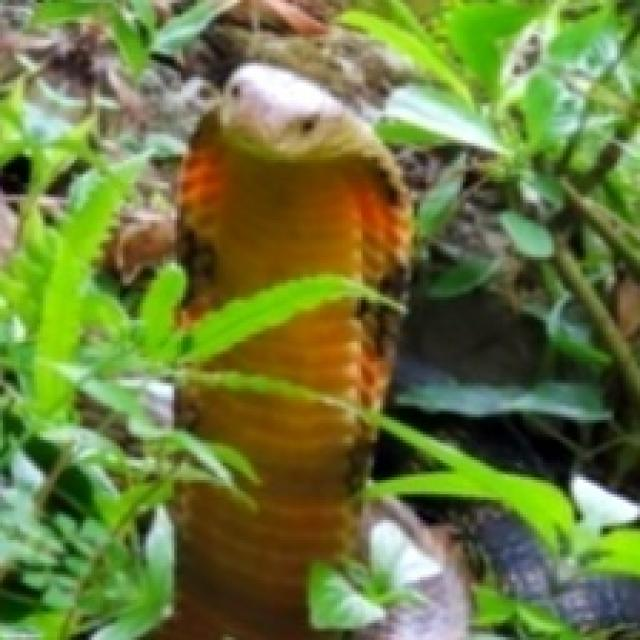king cobra: (157, 300, 394, 637), (180, 63, 409, 317)
